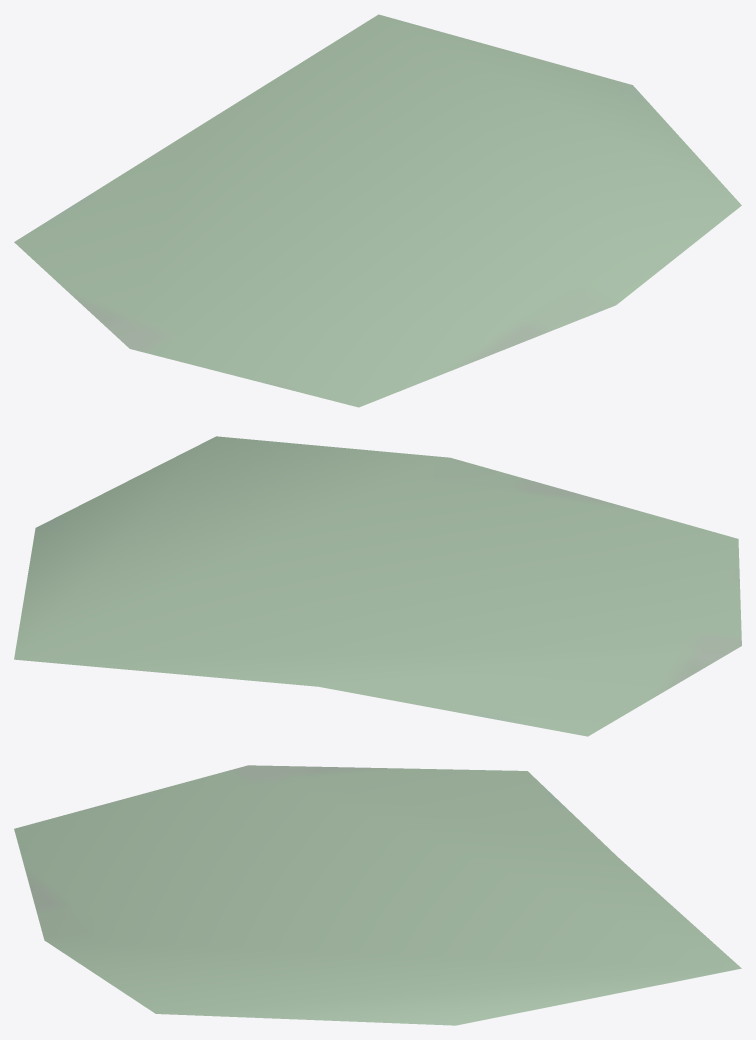
The model's file is TROLLHOLE02_HOLECAP16.fbx.
3 views of the same model, one above another, from view 1: azimuth 30°, elevation 25°; view 2: azimuth 150°, elevation 25°; view 3: azimuth 270°, elevation 25° (orthographic). The views are drawn at different scales.
Visible parts, largest first — view 1: TROLLHOLE02_HOLECAP16; view 2: TROLLHOLE02_HOLECAP16; view 3: TROLLHOLE02_HOLECAP16.
Part boxes in pixels (left/top/right/bottom): TROLLHOLE02_HOLECAP16: left=14, top=14, right=741, bottom=407; TROLLHOLE02_HOLECAP16: left=14, top=436, right=741, bottom=736; TROLLHOLE02_HOLECAP16: left=14, top=765, right=741, bottom=1025.
Size of the model in its own units: 26163 by 1987 by 26348.
1 material, 1 textured.
